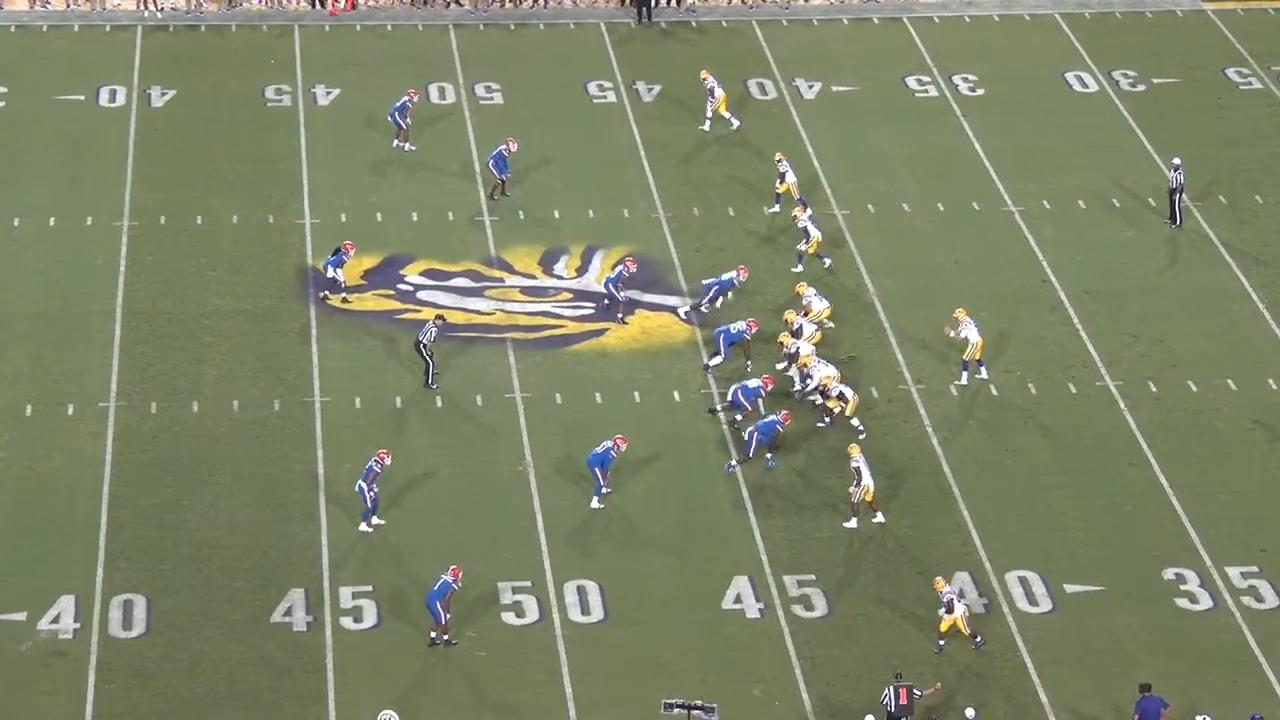player: (927, 570, 987, 658), (840, 442, 893, 536), (724, 409, 795, 476), (422, 565, 467, 656), (942, 306, 990, 391), (583, 433, 632, 514), (683, 264, 751, 319), (351, 447, 392, 536), (816, 376, 870, 442), (789, 205, 839, 276), (707, 374, 773, 427), (699, 318, 759, 376), (695, 67, 744, 137), (765, 149, 811, 217), (798, 352, 845, 414), (601, 254, 642, 325), (791, 281, 836, 337), (386, 89, 423, 156), (322, 241, 358, 309), (485, 135, 521, 202), (773, 333, 817, 382), (780, 306, 821, 350)
ref: (412, 311, 451, 392), (1165, 155, 1194, 235), (629, 0, 660, 29)
